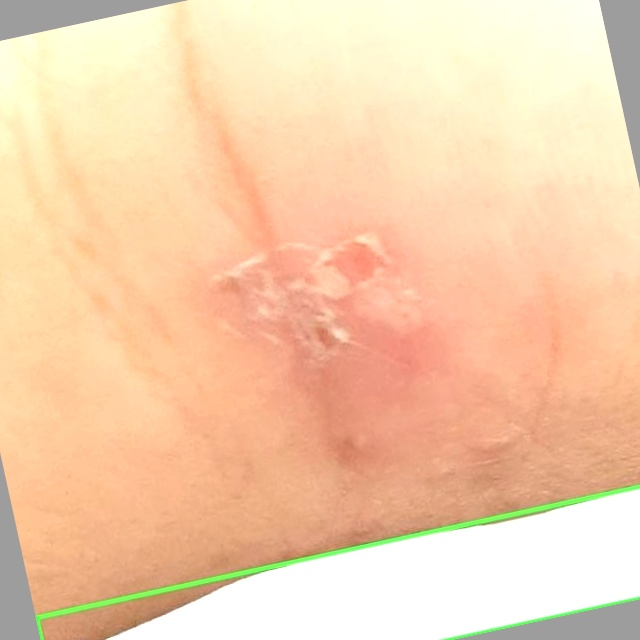Scabies: (36, 486, 639, 639)
